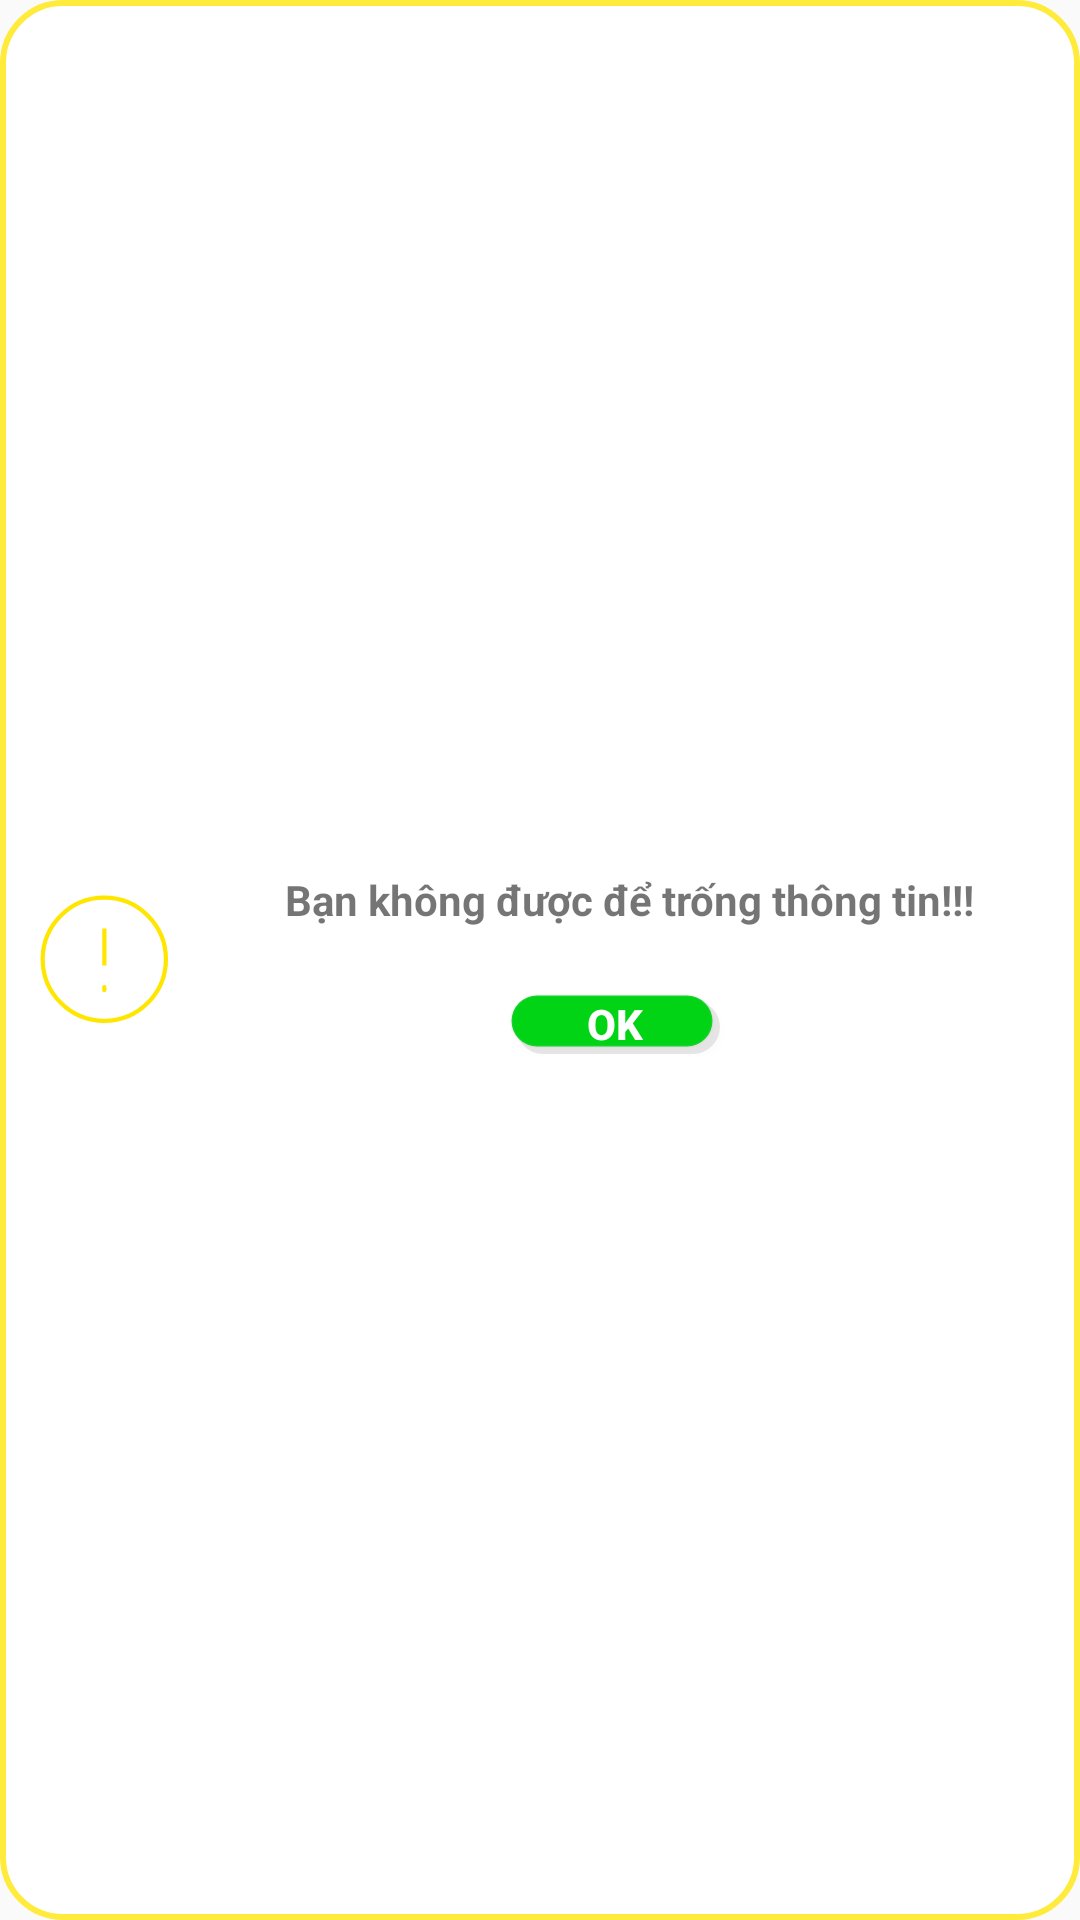

Where icons sit on this 1080x1920 app screen, as (left=x1, top=y1, right=x2, bottom=y2):
akar circle alert: (left=40, top=895, right=168, bottom=1023)
